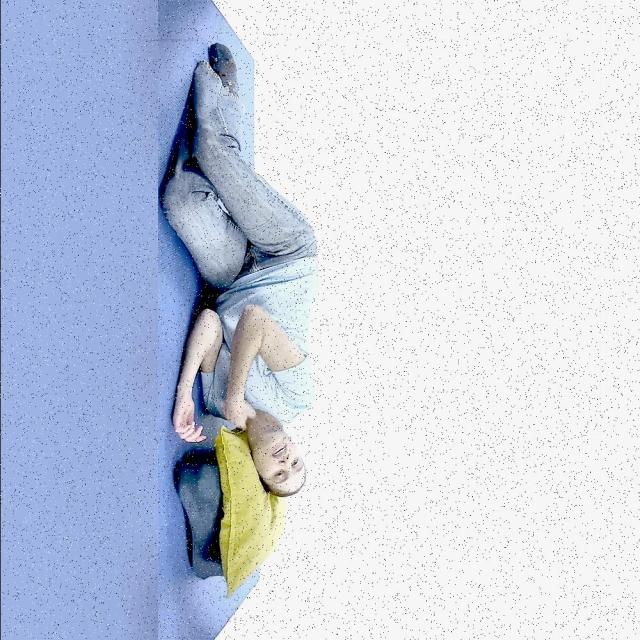Supine: (164, 44, 318, 494)
